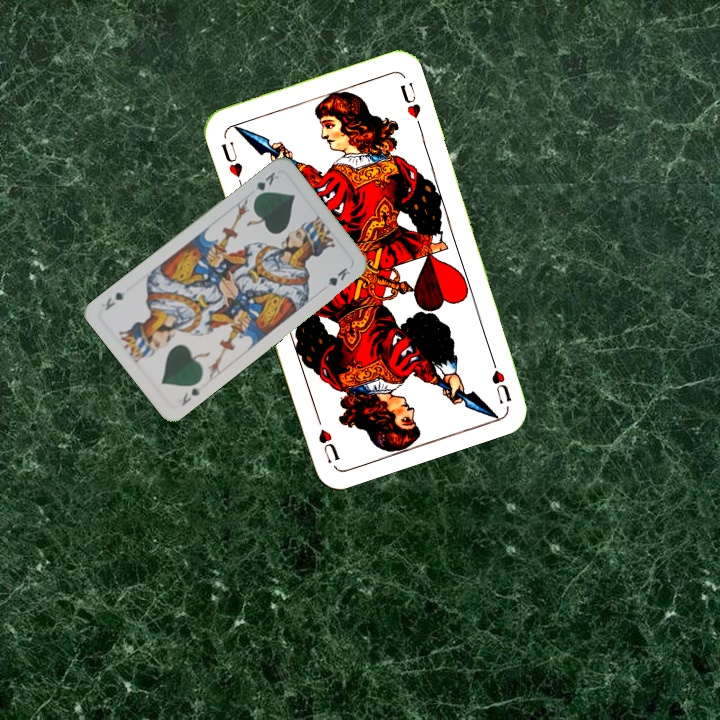GK: (250, 168, 282, 201), (177, 384, 203, 408)
HU: (485, 350, 514, 407), (216, 137, 246, 190)
